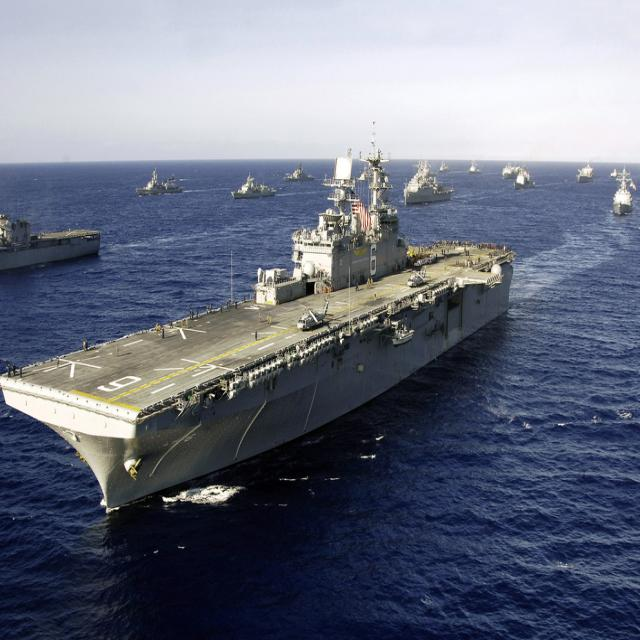navalvessels: (0, 142, 548, 506), (0, 196, 110, 267), (393, 165, 463, 205), (120, 160, 183, 200), (604, 175, 640, 234), (221, 168, 276, 205), (502, 158, 536, 191), (270, 168, 314, 185), (464, 154, 486, 188), (572, 162, 594, 194)
